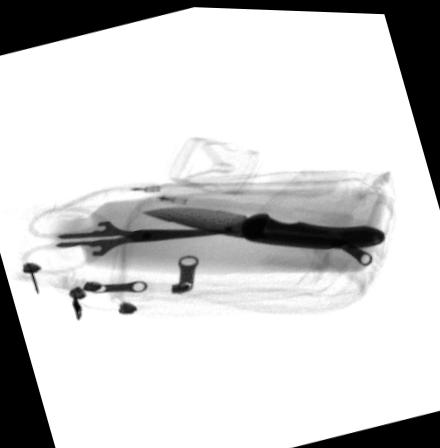Knife: (142, 204, 386, 245)
Scissors: (21, 204, 239, 273)
